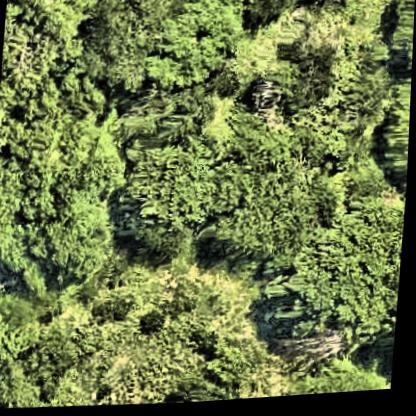tree-top: (0, 109, 123, 277), (110, 135, 257, 254), (291, 226, 399, 340), (71, 0, 186, 94), (235, 168, 330, 272), (1, 0, 84, 79), (177, 0, 253, 84), (276, 355, 397, 401), (194, 339, 259, 405), (373, 0, 416, 82), (381, 90, 412, 187), (0, 304, 27, 378), (245, 0, 304, 30), (304, 0, 332, 13)
